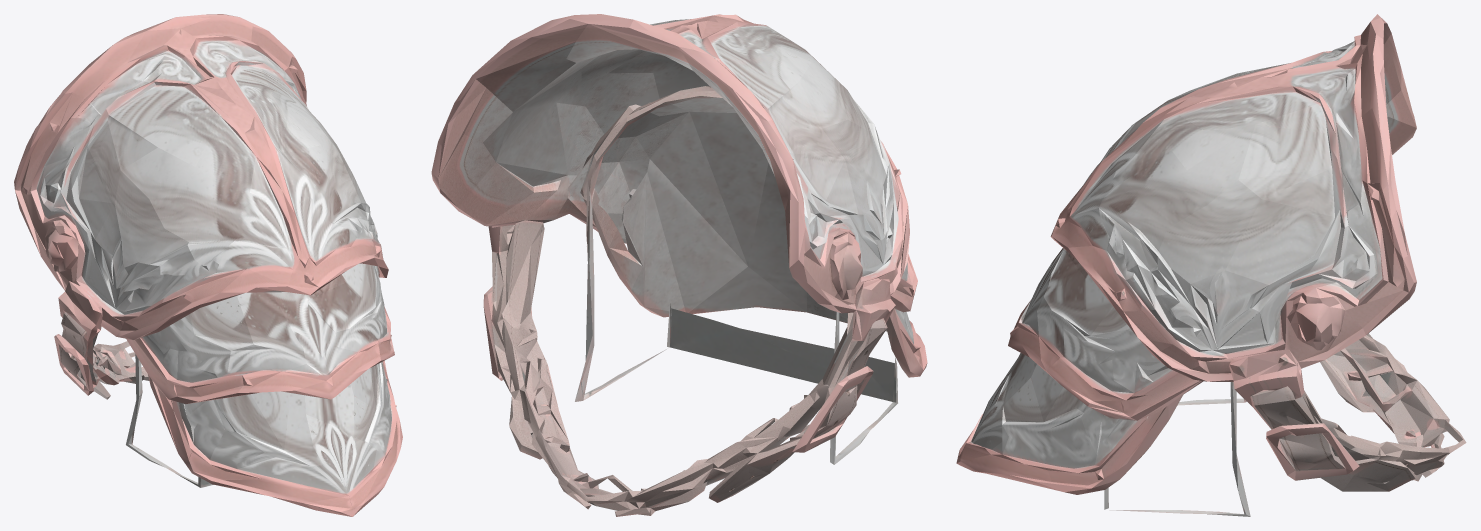
Rendered from diddy_armor_pauldron.glb.
3 views of the same model, side by side, from view 1: azimuth 30°, elevation 25°; view 2: azimuth 150°, elevation 25°; view 3: azimuth 270°, elevation 25° (orthographic). The views are drawn at different scales.
Parts seen in each view (by area): view 1: Mesh_0; view 2: Mesh_0; view 3: Mesh_0.
Boxes of the visible parts, bbox=[...] form: Mesh_0: bbox=[14, 14, 402, 516]; Mesh_0: bbox=[431, 14, 927, 516]; Mesh_0: bbox=[956, 14, 1466, 516].
Size of the model in its own units: 1.52 by 1.78 by 1.9.
1 material, 1 textured.
